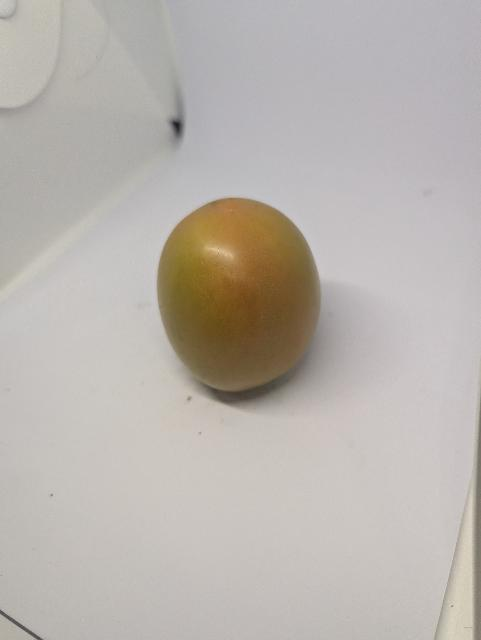breaker: (158, 198, 321, 391)
